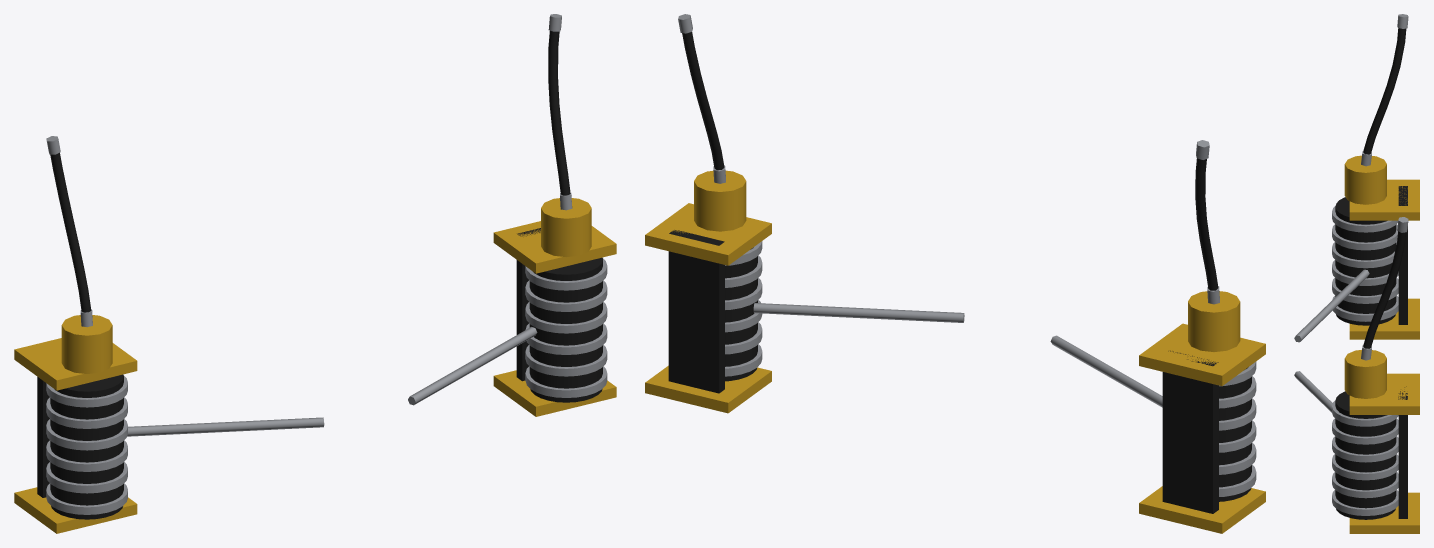
Rendered from tr20k_winch.obj.
The picture shows the model from 3 angles, left to right: view 1: azimuth 30°, elevation 25°; view 2: azimuth 150°, elevation 25°; view 3: azimuth 270°, elevation 25°; orthographic projection. The views are drawn at different scales.
Visible parts, largest first — view 1: tr20k_winch; view 2: tr20k_winch; view 3: tr20k_winch.
Boxes of the visible parts, left/top/right/bottom form: tr20k_winch: left=14, top=14, right=616, bottom=533; tr20k_winch: left=645, top=14, right=1265, bottom=533; tr20k_winch: left=1294, top=14, right=1419, bottom=533.
Size of the model in its own units: 4.58 by 2.86 by 1.07.
